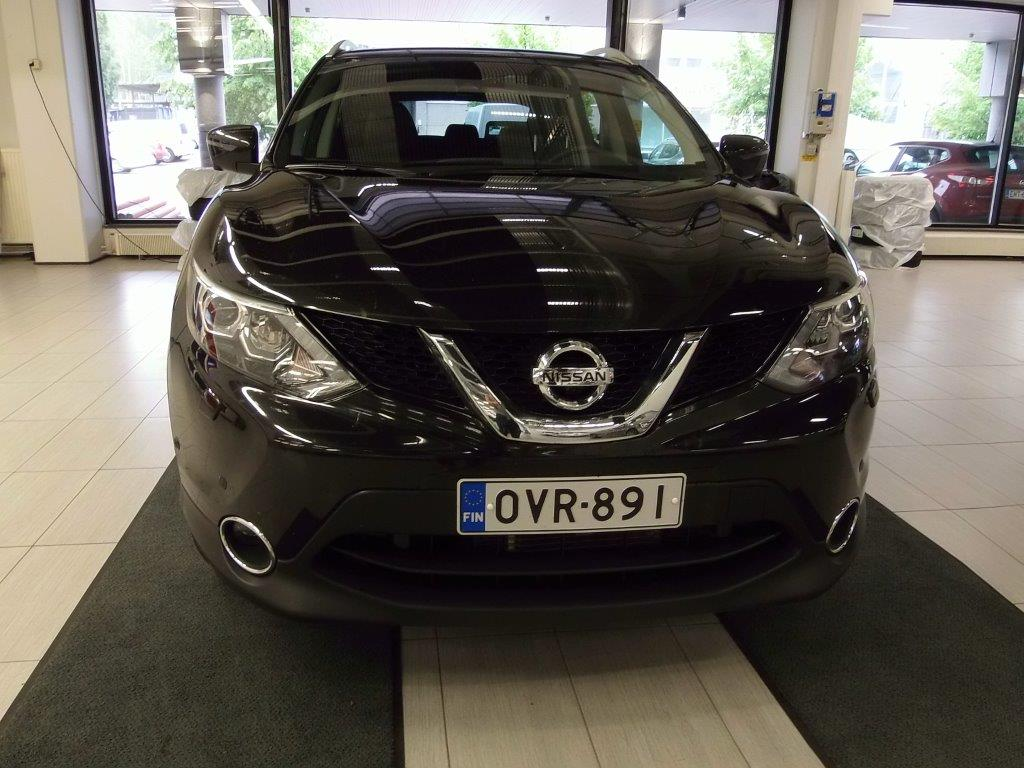license: (454, 477, 682, 534)
